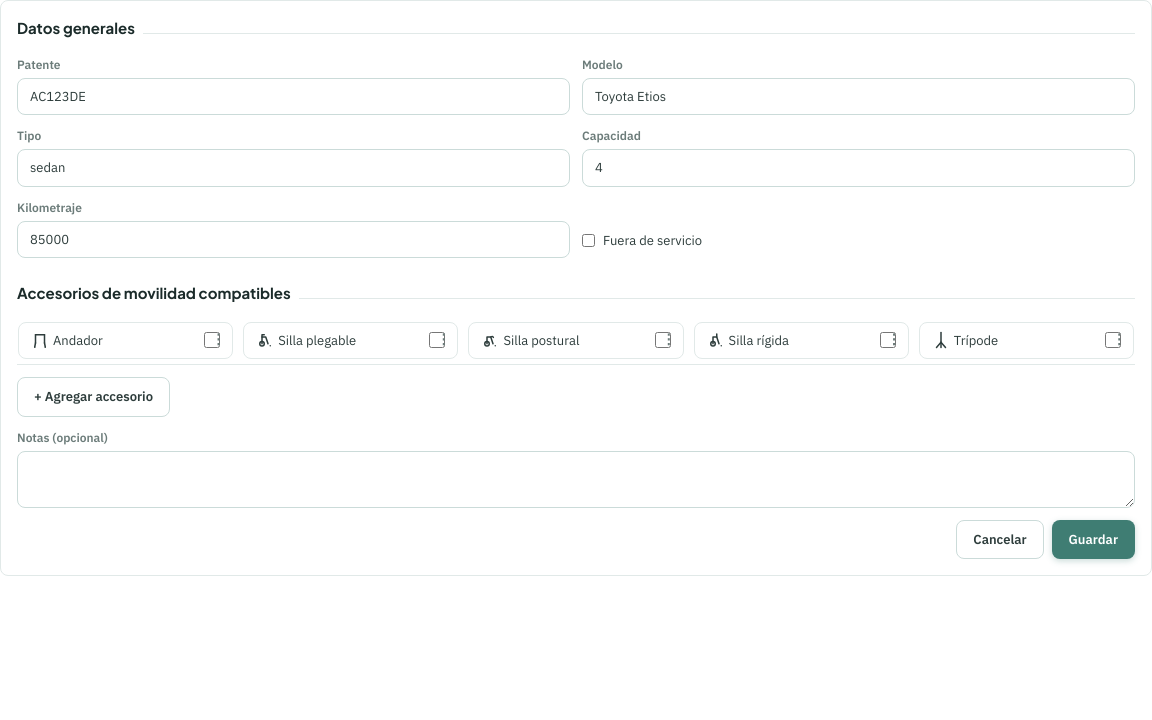
Test: VehiculoForm › bloquea el guardado cuando el kilometraje ingresado es menor al mínimo registrado (RF-505)
The width and height of the screenshot is (1152, 720).
Replace the text in the number field labelled "Kilometraje" with "80000" at (294, 239), box [17,220,570,258]
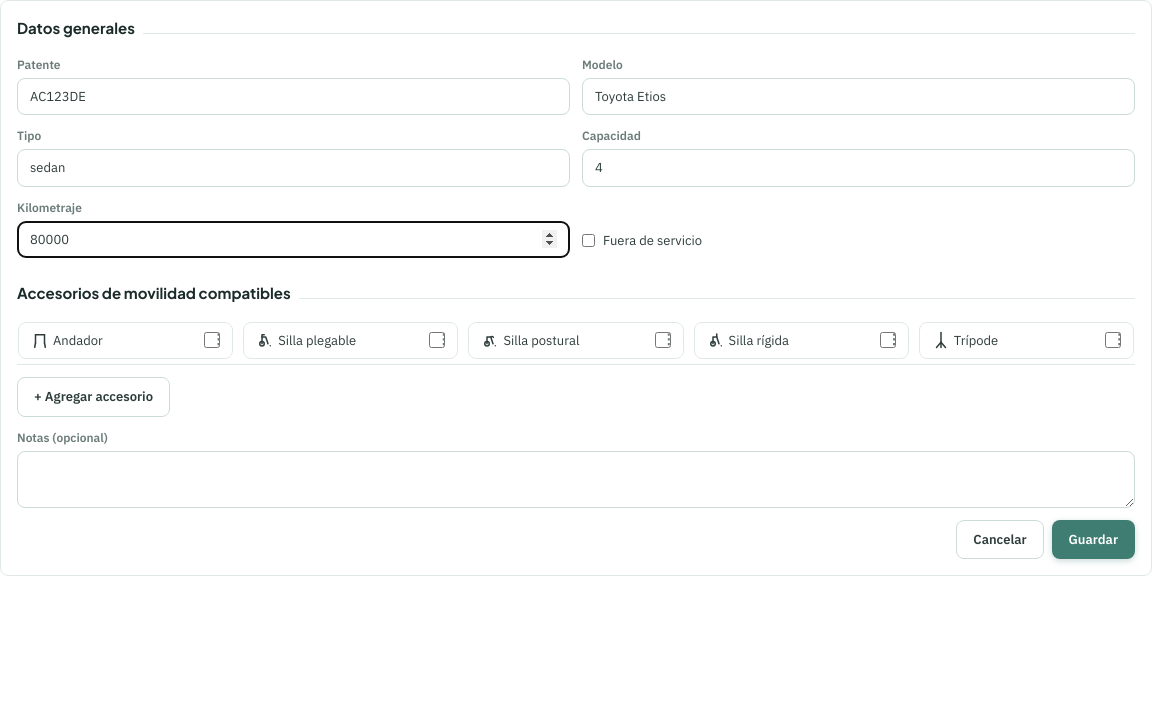
Click the button "Guardar" at (1093, 539), box [1052,520,1135,559]
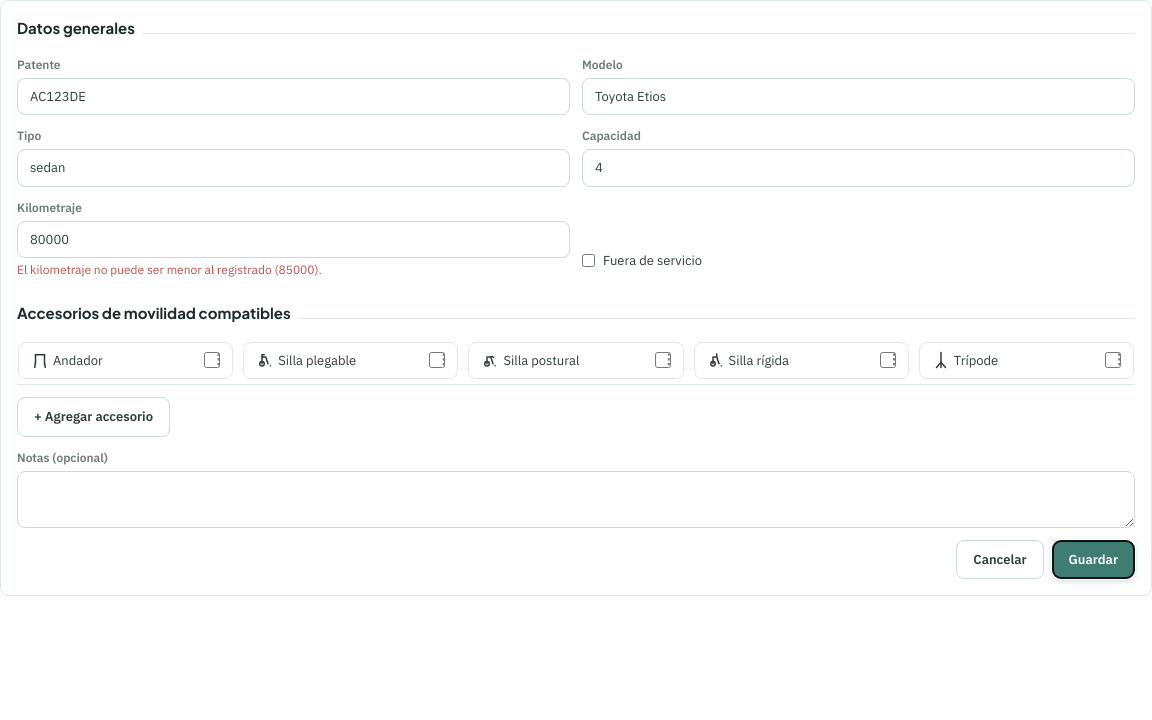
Expected: the text "El kilometraje no puede ser menor al registrado (85000)." is shown, [17,262,322,277]
